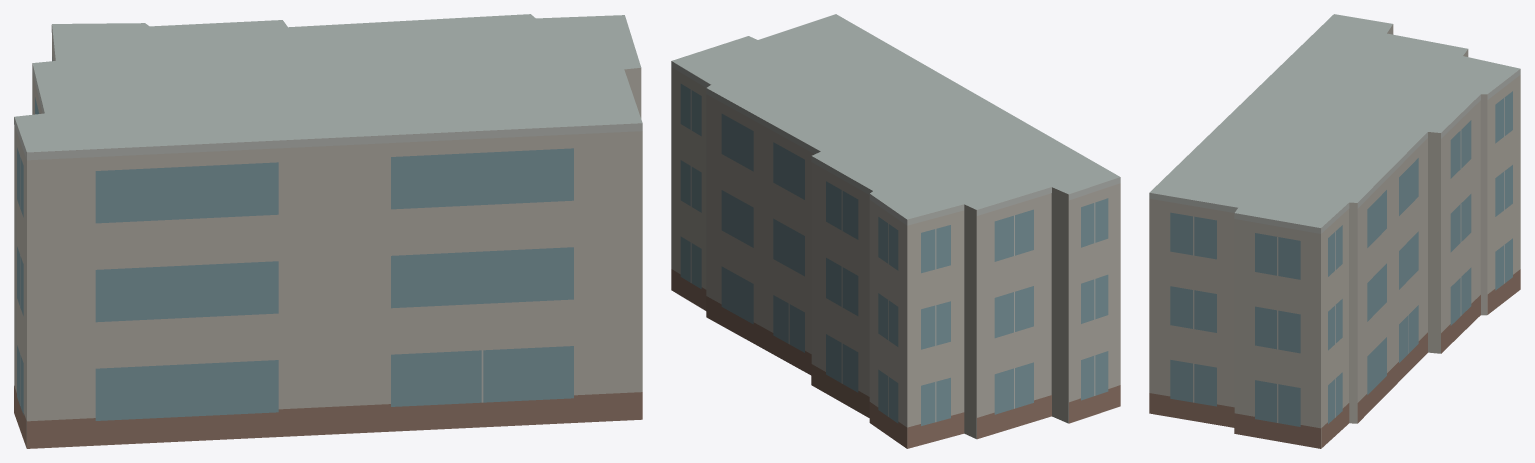
The model's file is survey-upis-32999732.glb.
3 renders of one model, left to right at view 1: azimuth 30°, elevation 25°; view 2: azimuth 150°, elevation 25°; view 3: azimuth 270°, elevation 25°, orthographic. The views are drawn at different scales.
Parts seen in each view (by area): view 1: survey-upis-32999732.tmp; view 2: survey-upis-32999732.tmp; view 3: survey-upis-32999732.tmp.
Boxes of the visible parts, x1=… form: survey-upis-32999732.tmp: x1=14, y1=14, x2=642, y2=448; survey-upis-32999732.tmp: x1=671, y1=14, x2=1120, y2=448; survey-upis-32999732.tmp: x1=1149, y1=14, x2=1520, y2=448.
Size of the model in its own units: 19.05 by 9.15 by 13.96.
